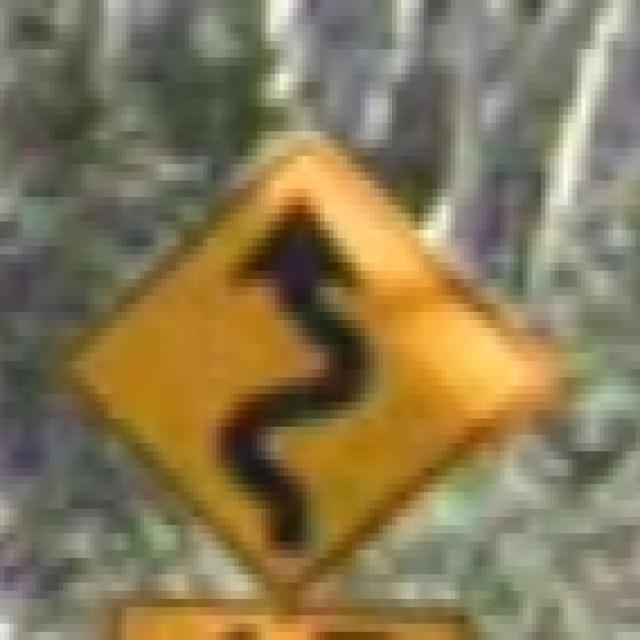Banyak Tikungan Pertama Kiri: (49, 98, 564, 608)
